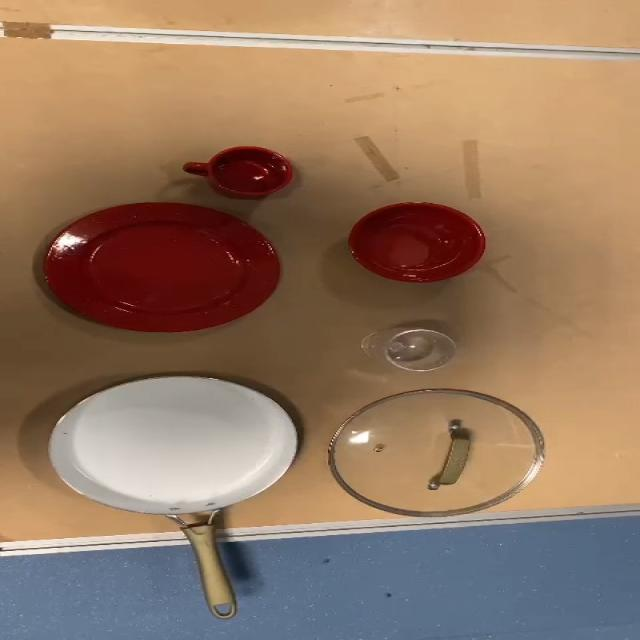Bowl: (347, 204, 485, 284)
Glass: (363, 326, 460, 374)
Plate: (35, 203, 278, 330)
cup: (177, 135, 295, 200)
pot: (49, 374, 308, 618)
